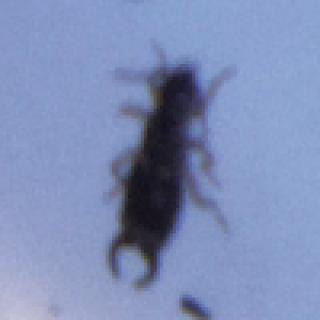earwig: (101, 36, 236, 291)
